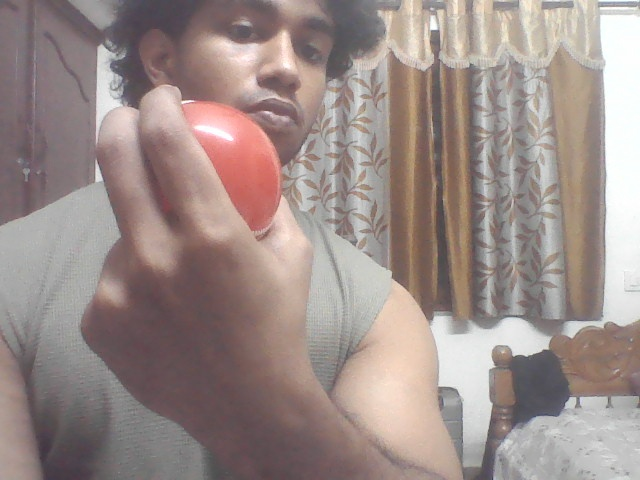cricket_ball: (163, 101, 284, 246)
